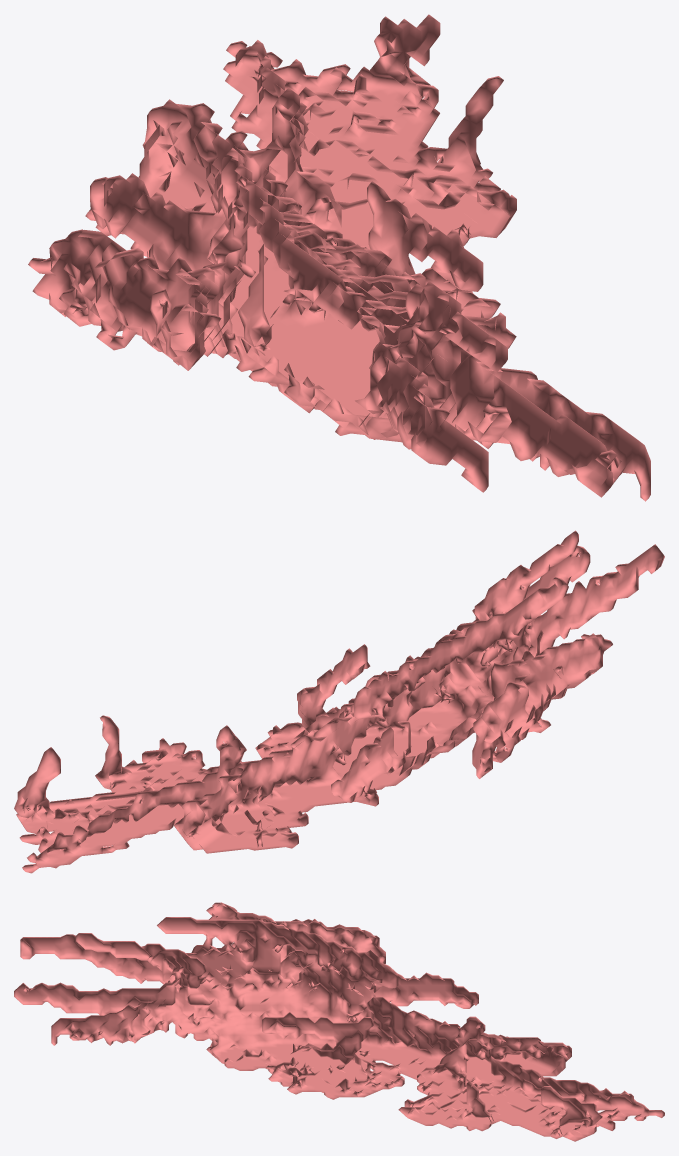
The model's file is osteocyte_18.glb.
3 renders of one model, top to bottom at view 1: azimuth 30°, elevation 25°; view 2: azimuth 150°, elevation 25°; view 3: azimuth 270°, elevation 25°, orthographic. The views are drawn at different scales.
Visible parts, largest first — view 1: osteocyte_18; view 2: osteocyte_18; view 3: osteocyte_18.
Part boxes in pixels (x1,y1,x2,y2): osteocyte_18: [28, 14, 650, 501]; osteocyte_18: [14, 530, 664, 873]; osteocyte_18: [14, 902, 664, 1141].
Size of the model in its own units: 27.93 by 9.15 by 50.55.
